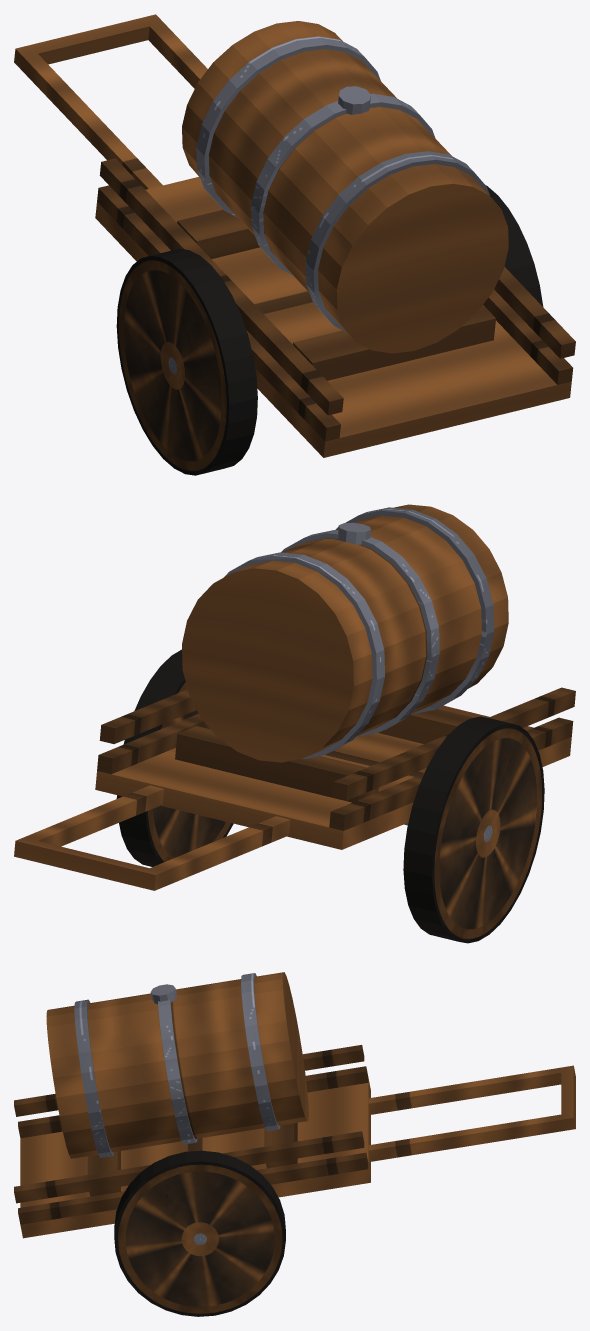
File: holzwagen_fass_blur_hand.fbx
3 views of the same model, one above another, from view 1: azimuth 30°, elevation 25°; view 2: azimuth 150°, elevation 25°; view 3: azimuth 270°, elevation 25° (orthographic). The views are drawn at different scales.
Visible parts, largest first — view 1: Holzwagen_Fass_blur; view 2: Holzwagen_Fass_blur; view 3: Holzwagen_Fass_blur.
Boxes of the visible parts, bbox=[...] form: Holzwagen_Fass_blur: bbox=[14, 14, 575, 475]; Holzwagen_Fass_blur: bbox=[14, 504, 575, 943]; Holzwagen_Fass_blur: bbox=[14, 972, 575, 1316].
Bounding box in the file's own units: 110 × 122 × 223.
